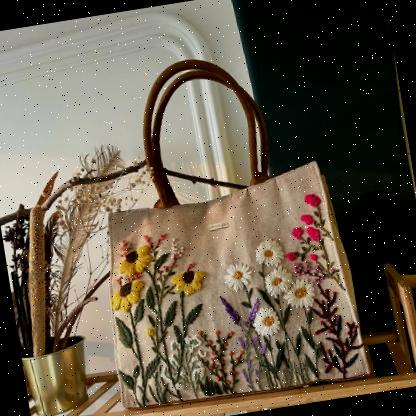bag: (72, 34, 380, 416)
